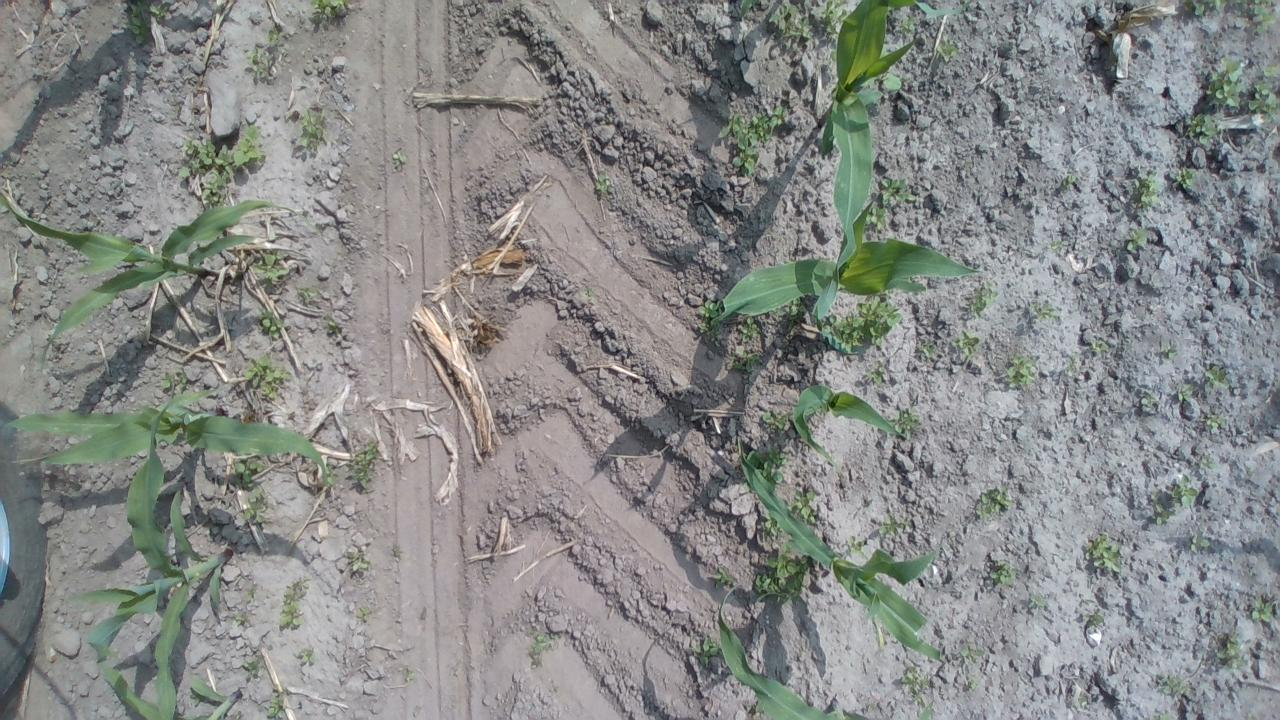Maize: (704, 98, 985, 332), (66, 390, 234, 720), (2, 185, 304, 362), (731, 443, 968, 668), (4, 393, 339, 488), (711, 582, 941, 720), (804, 2, 920, 155), (95, 648, 263, 720), (782, 384, 918, 466)
Weeds: (178, 122, 266, 212), (720, 102, 790, 182), (820, 292, 904, 352), (738, 3, 852, 44), (750, 550, 819, 600), (1190, 3, 1276, 40), (242, 26, 294, 84), (1202, 54, 1248, 116), (862, 176, 914, 230), (244, 354, 294, 404), (124, 1, 170, 55), (866, 55, 908, 114), (290, 107, 332, 163), (348, 439, 386, 494), (278, 576, 312, 634), (1084, 532, 1123, 579), (1001, 348, 1042, 391), (248, 250, 293, 288), (749, 442, 787, 486), (1131, 168, 1165, 215), (970, 489, 1014, 523), (1162, 472, 1200, 510), (1186, 109, 1224, 147), (894, 664, 931, 702), (1199, 358, 1236, 396), (699, 295, 736, 332), (1213, 632, 1247, 672), (233, 454, 269, 490), (1247, 591, 1280, 629), (1124, 222, 1158, 258), (1248, 80, 1278, 120), (873, 512, 910, 544), (522, 627, 560, 658), (790, 488, 820, 526), (309, 1, 356, 25), (686, 634, 720, 666), (734, 314, 766, 348), (260, 688, 294, 720), (1157, 674, 1193, 704), (964, 282, 994, 318), (932, 34, 961, 71), (953, 330, 988, 360), (757, 407, 793, 436), (1180, 525, 1210, 559), (238, 491, 268, 525), (729, 348, 768, 374), (838, 534, 871, 564), (891, 407, 920, 441), (986, 560, 1020, 588), (1168, 379, 1198, 410), (1168, 163, 1198, 194), (158, 368, 195, 393), (860, 362, 894, 389), (1028, 294, 1062, 320), (346, 548, 372, 582), (1192, 450, 1222, 479), (260, 311, 286, 344), (704, 566, 734, 594), (890, 12, 920, 40), (1148, 500, 1178, 527), (1134, 388, 1164, 415), (238, 652, 264, 683), (782, 296, 812, 322), (292, 643, 318, 672), (1203, 412, 1236, 434), (758, 516, 785, 542), (1154, 336, 1180, 362), (590, 170, 614, 198), (387, 148, 412, 174), (1027, 592, 1048, 616), (298, 283, 318, 308), (1086, 609, 1108, 630), (1088, 338, 1110, 358), (918, 338, 940, 358), (398, 662, 420, 682), (1060, 173, 1084, 191), (960, 646, 984, 664), (1044, 238, 1069, 255), (326, 320, 344, 343), (242, 581, 258, 604), (1261, 62, 1280, 80), (234, 611, 249, 628), (356, 604, 370, 622), (964, 674, 982, 688), (1150, 710, 1174, 720), (580, 286, 596, 300)
